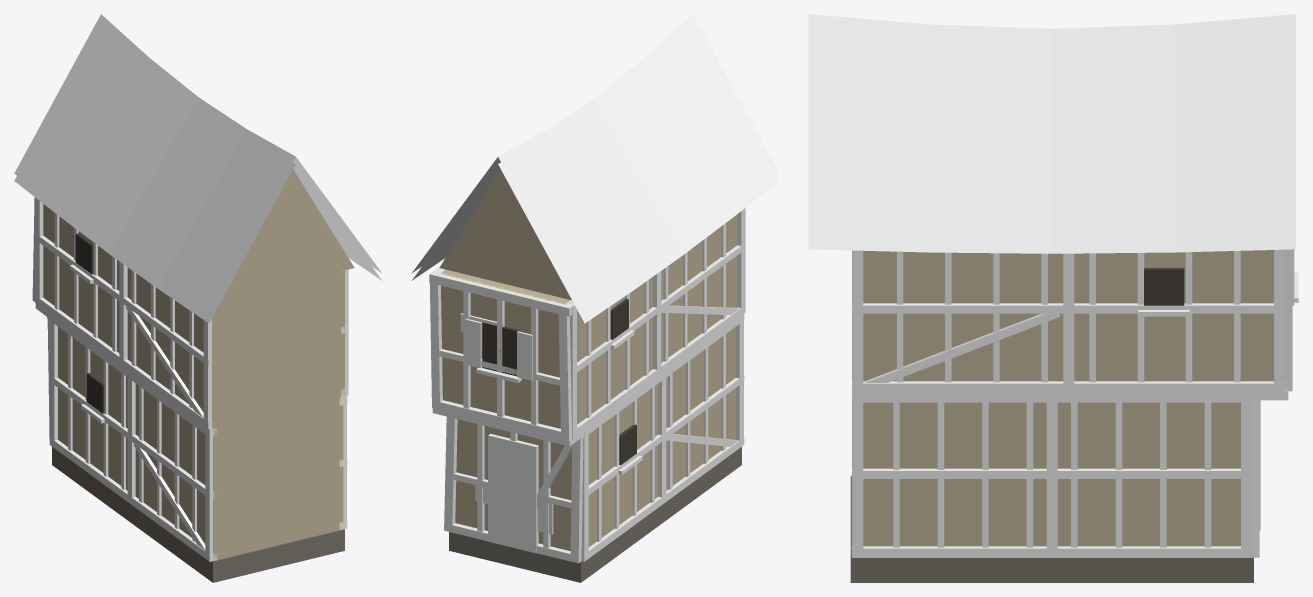
The model's file is house_narrow_poor_a.glb.
The picture shows the model from 3 angles, left to right: view 1: azimuth 30°, elevation 25°; view 2: azimuth 150°, elevation 25°; view 3: azimuth 270°, elevation 25°; orthographic projection. The views are drawn at different scales.
Visible parts, largest first — view 1: house_narrow_poor_a; view 2: house_narrow_poor_a; view 3: house_narrow_poor_a.
Part boxes in pixels (x1,y1,x2,y2): house_narrow_poor_a: [14, 14, 382, 582]; house_narrow_poor_a: [411, 14, 779, 582]; house_narrow_poor_a: [808, 14, 1298, 582].
Size of the model in its own units: 3.42 by 7.95 by 6.68.
